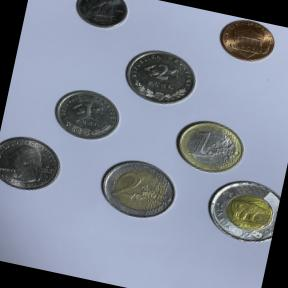coin: (90, 150, 182, 228), (197, 174, 282, 252), (114, 40, 206, 112), (167, 112, 249, 180), (0, 127, 70, 201), (210, 13, 281, 70), (66, 0, 133, 36)
